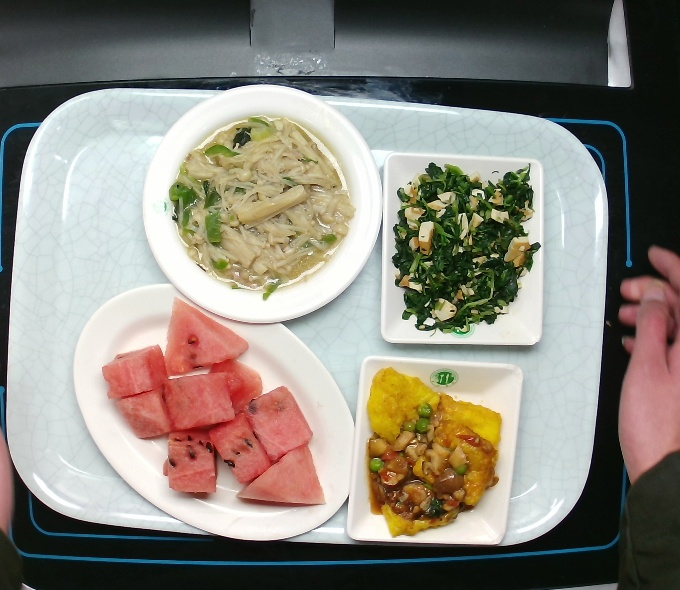wcq-CuiPiDouFu: (361, 364, 504, 541)
wcq-JinZhenGu: (166, 114, 358, 294)
wcq-MaLanTouChaoDouGan: (392, 159, 543, 334)
wcq-XiGua: (100, 293, 329, 514)
